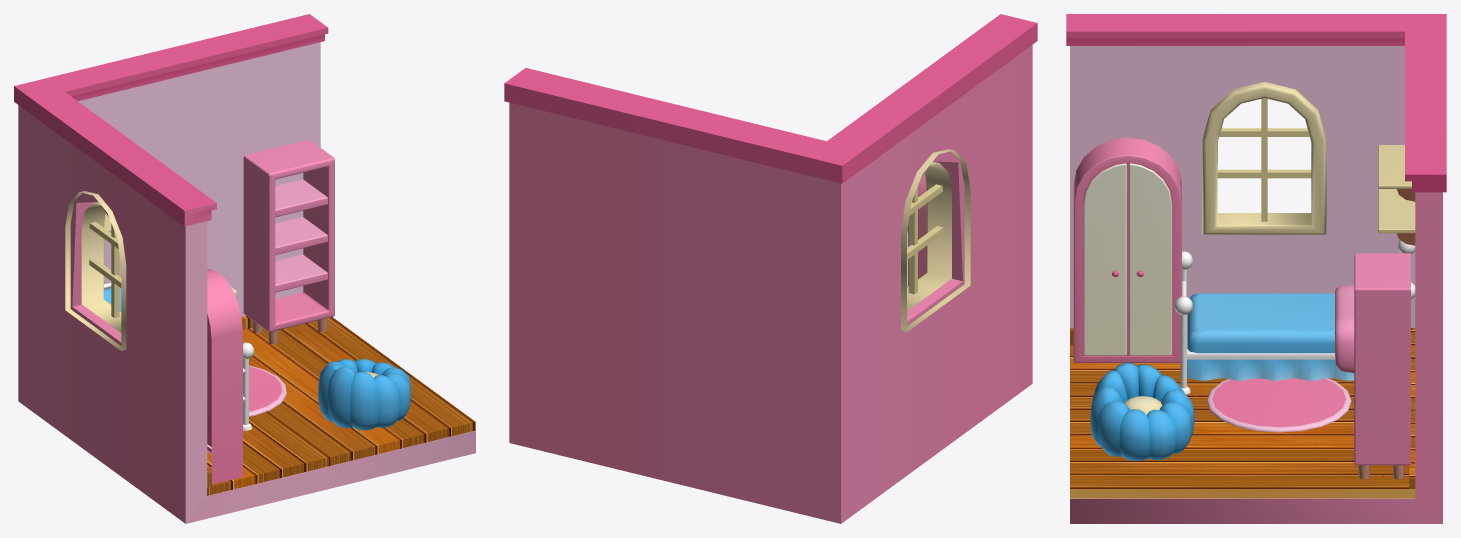
Rendered from bedroom2.fbx.
3 renders of one model, left to right at view 1: azimuth 30°, elevation 25°; view 2: azimuth 150°, elevation 25°; view 3: azimuth 270°, elevation 25°, orthographic. The views are drawn at different scales.
Parts seen in each view (by area): view 1: bedroom_wall_2, bedroom_wall_main2, floor2, bedroom_wall_upper2, shelf2, wardrobe_2, single_sofa2, window2, carpet2, bed2; view 2: bedroom_wall_2, bedroom_wall_upper2, window2, wardrobe_2; view 3: bedroom_wall_main2, floor2, wardrobe_2, bedroom_wall_upper2, bedroom_wall_2, bed2, shelf2, window2, single_sofa2, carpet2, wall_shelf4, wall_shelf3.
Boxes of the visible parts, box(x1,y1,x2,y2) form: bedroom_wall_2: box(18, 105, 475, 523); bedroom_wall_main2: box(78, 42, 320, 316); floor2: box(207, 316, 475, 495); bedroom_wall_upper2: box(14, 14, 328, 226); shelf2: box(243, 139, 334, 344); wardrobe_2: box(207, 269, 242, 484); single_sofa2: box(318, 359, 410, 430); window2: box(65, 191, 126, 350); carpet2: box(249, 365, 286, 416); bed2: box(104, 282, 254, 430); bedroom_wall_2: box(509, 45, 1032, 523); bedroom_wall_upper2: box(504, 14, 1037, 183); window2: box(901, 149, 970, 332); wardrobe_2: box(907, 175, 926, 285); bedroom_wall_main2: box(1070, 46, 1415, 327); floor2: box(1070, 328, 1415, 498); wardrobe_2: box(1073, 137, 1181, 362); bedroom_wall_upper2: box(1066, 14, 1446, 192); bedroom_wall_2: box(1070, 192, 1442, 523); bed2: box(1174, 240, 1415, 394); shelf2: box(1354, 253, 1410, 479); window2: box(1202, 82, 1326, 234); single_sofa2: box(1090, 362, 1194, 461); carpet2: box(1206, 378, 1351, 432); wall_shelf4: box(1378, 189, 1415, 245); wall_shelf3: box(1378, 145, 1415, 201).
Size of the model in its own units: 22.18 by 22.4 by 22.
